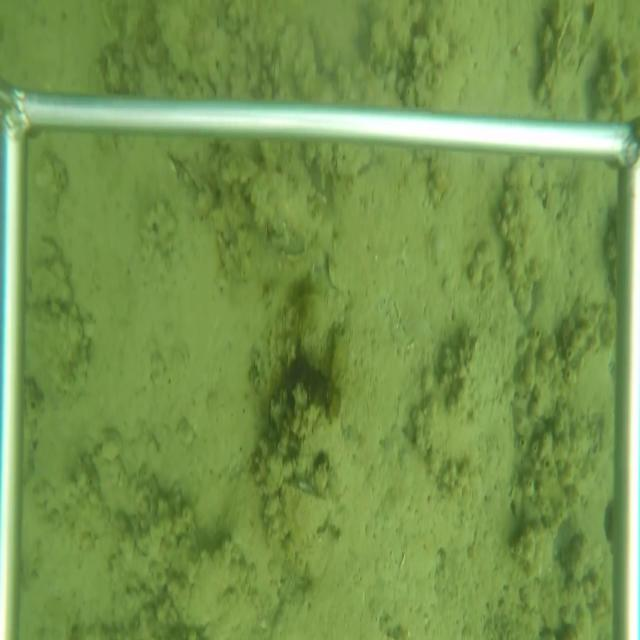Oyster-Closed: (163, 149, 203, 194)
Oyster-Indeterminate: (278, 480, 332, 551)
